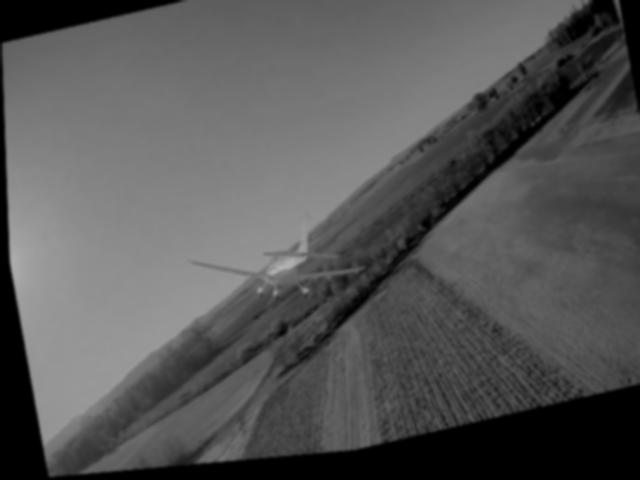hedef: (172, 189, 383, 336)
